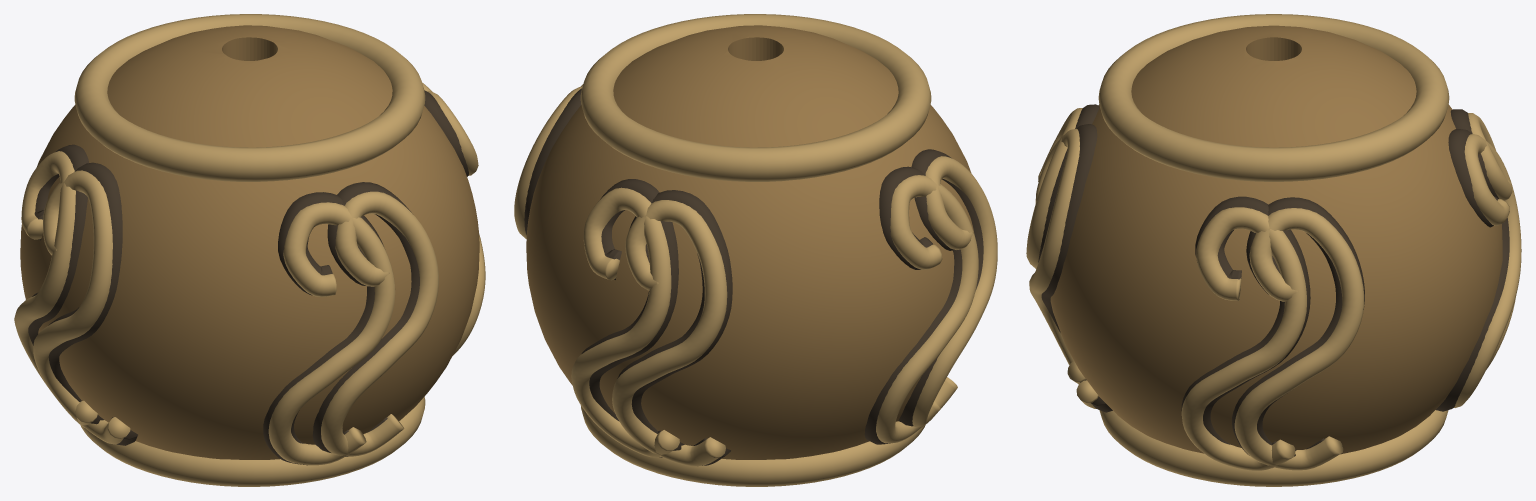
The picture shows the model from 3 angles, left to right: view 1: azimuth 30°, elevation 25°; view 2: azimuth 150°, elevation 25°; view 3: azimuth 270°, elevation 25°; orthographic projection.
Parts seen in each view (by area): view 1: inventory-member-001, inventory-member-003, inventory-member-006, inventory-member-004, inventory-member-002, inventory-member-008, inventory-member-010, inventory-member-005, inventory-member-007, inventory-member-009, inventory-member-011, inventory-member-018 (+1 smaller); view 2: inventory-member-001, inventory-member-003, inventory-member-012, inventory-member-014, inventory-member-010, inventory-member-002, inventory-member-008, inventory-member-015, inventory-member-013, inventory-member-011, inventory-member-009, inventory-member-016 (+1 smaller); view 3: inventory-member-001, inventory-member-003, inventory-member-016, inventory-member-018, inventory-member-002, inventory-member-014, inventory-member-004, inventory-member-019, inventory-member-017, inventory-member-015, inventory-member-005, inventory-member-006 (+3 smaller).
Part boxes in pixels (<box>): inventory-member-001: <box>20,25,479,459</box>; inventory-member-003: <box>74,14,425,181</box>; inventory-member-006: <box>268,202,395,465</box>; inventory-member-004: <box>321,191,438,456</box>; inventory-member-002: <box>80,397,425,486</box>; inventory-member-008: <box>33,170,130,444</box>; inventory-member-010: <box>14,151,97,427</box>; inventory-member-005: <box>312,182,419,456</box>; inventory-member-007: <box>263,192,383,465</box>; inventory-member-009: <box>48,162,137,445</box>; inventory-member-011: <box>28,144,103,424</box>; inventory-member-018: <box>427,91,485,355</box>; inventory-member-001: <box>526,25,973,459</box>; inventory-member-003: <box>580,14,931,181</box>; inventory-member-012: <box>612,200,727,466</box>; inventory-member-014: <box>571,187,679,457</box>; inventory-member-010: <box>876,175,978,443</box>; inventory-member-002: <box>580,405,925,486</box>; inventory-member-008: <box>912,156,997,426</box>; inventory-member-015: <box>581,179,684,457</box>; inventory-member-013: <box>617,190,732,465</box>; inventory-member-011: <box>864,166,962,444</box>; inventory-member-009: <box>898,149,983,426</box>; inventory-member-016: <box>514,87,582,238</box>; inventory-member-001: <box>1050,25,1502,454</box>; inventory-member-003: <box>1098,14,1449,181</box>; inventory-member-016: <box>1234,208,1364,470</box>; inventory-member-018: <box>1181,207,1306,470</box>; inventory-member-002: <box>1099,410,1448,486</box>; inventory-member-014: <box>1454,134,1521,407</box>; inventory-member-004: <box>1029,128,1098,408</box>; inventory-member-019: <box>1181,196,1310,456</box>; inventory-member-017: <box>1232,197,1364,455</box>; inventory-member-015: <box>1436,128,1509,411</box>; inventory-member-005: <box>1041,124,1112,412</box>; inventory-member-006: <box>1026,108,1085,384</box>.
Bounding box in the file's own units: 0.00883 × 0.00794 × 0.00883.
